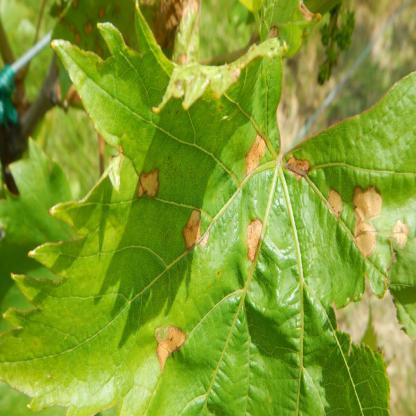grape leaf black rot: (0, 17, 415, 413)
